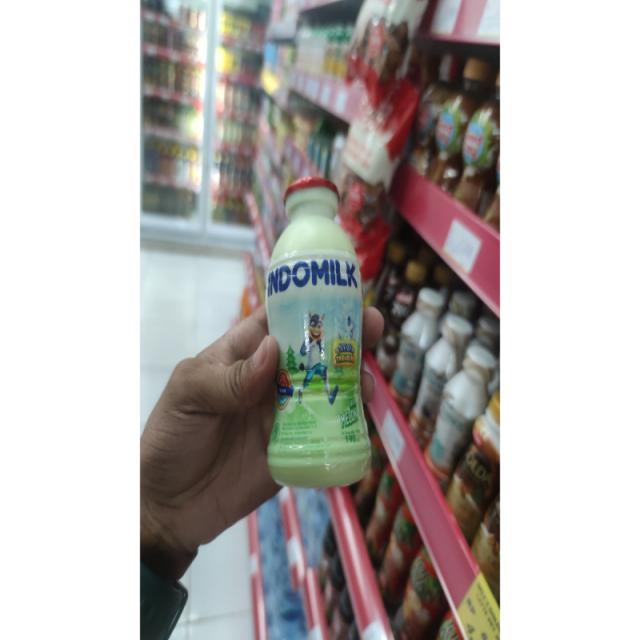botol: (245, 155, 401, 521)
